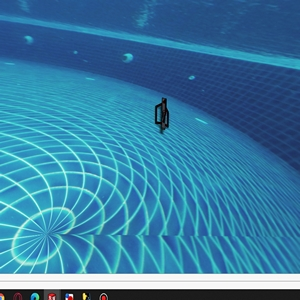submarine: (156, 95, 172, 133)
